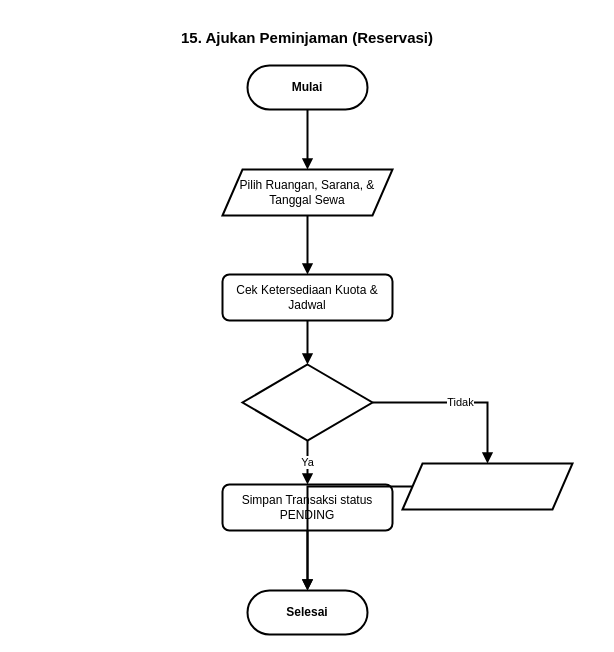
Image size: 614x652. Some labels were removed from this diagram. The shapes that lost their labels are listed below. From the top down, each one's centre as x and y in pixels, then its label:
At pixel 307 402: "Fasilitas Tersedia?".
At pixel 487 486: "Tampilkan Notifikasi Sudah Terbooking".
